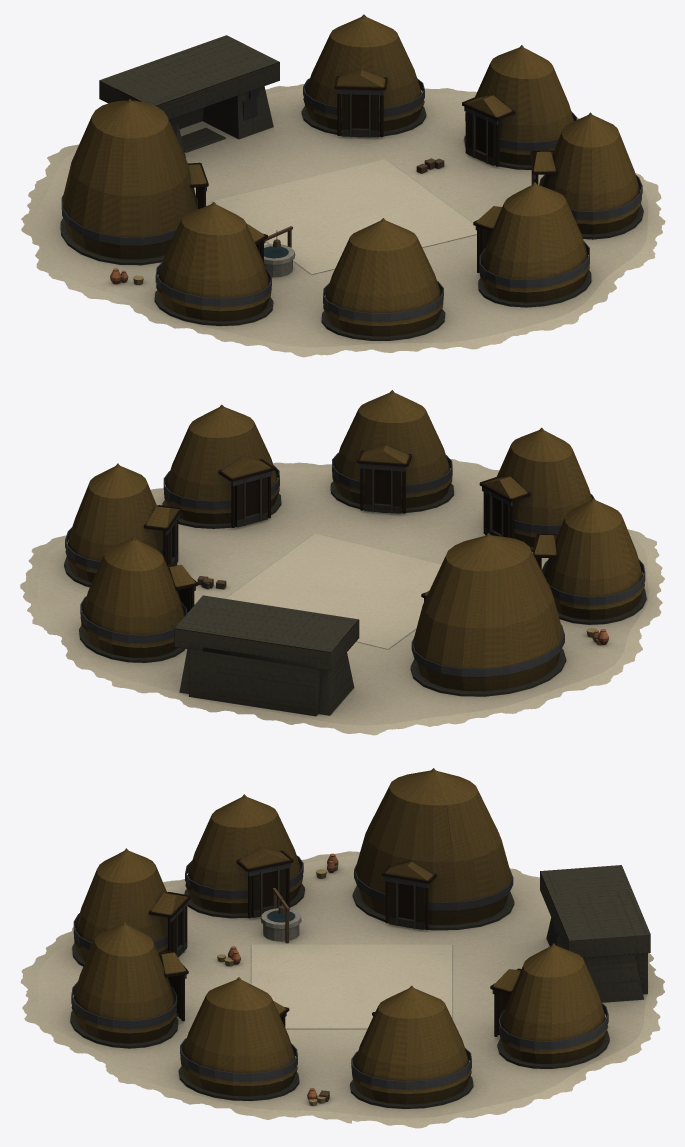
File: bronze-town-small-b-eastafrica.glb
3 renders of one model, top to bottom at view 1: azimuth 30°, elevation 25°; view 2: azimuth 150°, elevation 25°; view 3: azimuth 270°, elevation 25°, orthographic.
Visible parts, largest first — view 1: LOD0; view 2: LOD0; view 3: LOD0.
Boxes of the visible parts, left/top/right/bottom form: LOD0: left=21, top=14, right=665, bottom=357; LOD0: left=20, top=390, right=664, bottom=735; LOD0: left=20, top=768, right=664, bottom=1128.
Size of what is drawn, in the model's own units: 4.03 by 0.9034 by 3.94.
Materials: 3 (3 with a texture image).
